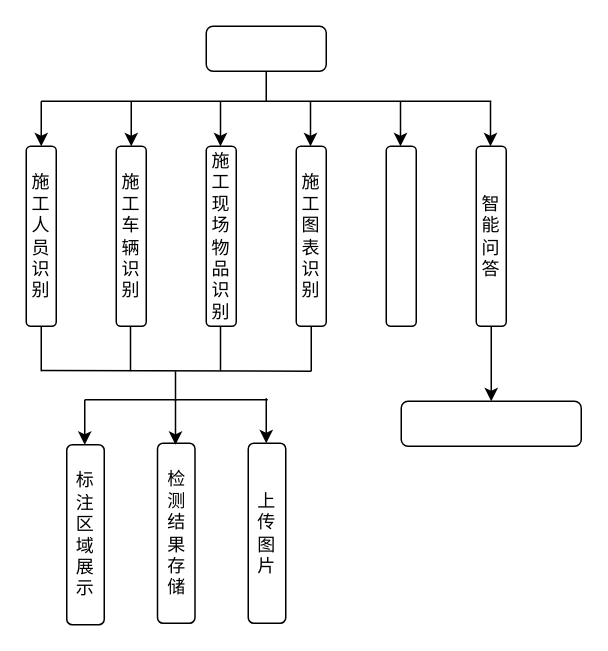
This 608x651 diagram has some shape labels left out. The box of each missing label's shape, as (x1, y1, x2, y2) in pixels:
A E C文本识别: (385, 145, 416, 326)
集成小达: (400, 400, 581, 446)
首页: (205, 25, 326, 71)
